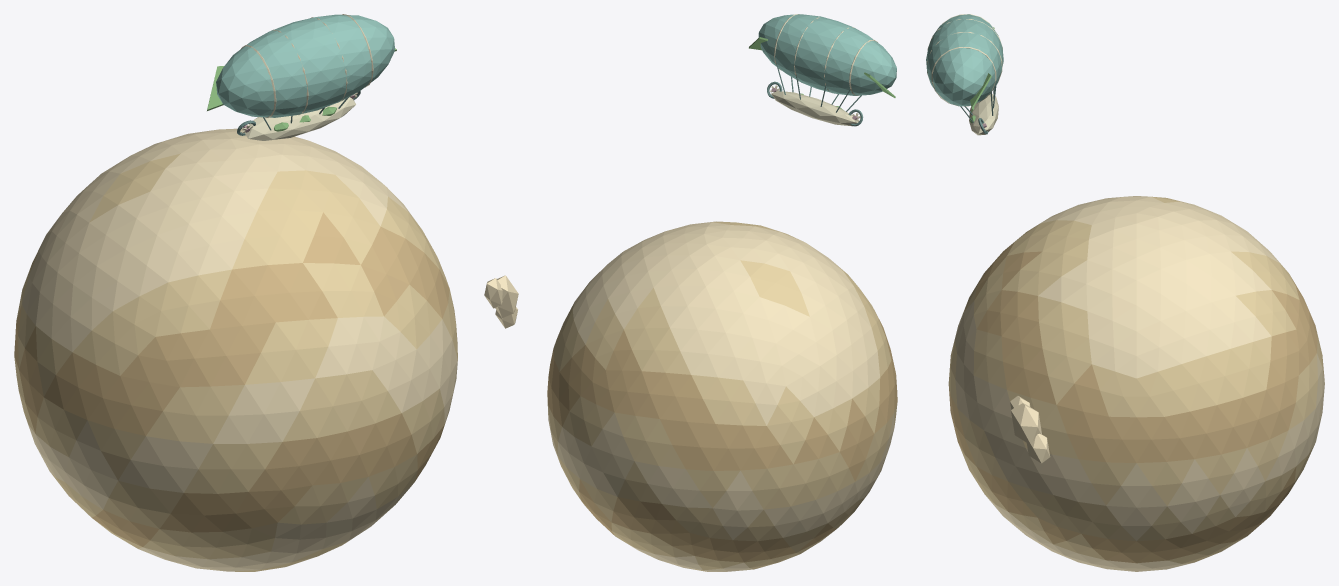
Rendered from Venus.glb.
The picture shows the model from 3 angles, left to right: view 1: azimuth 30°, elevation 25°; view 2: azimuth 150°, elevation 25°; view 3: azimuth 270°, elevation 25°; orthographic projection. The views are drawn at different scales.
Parts seen in each view (by area): view 1: S5_Venus • modeled surfaces; view 2: S5_Venus • modeled surfaces; view 3: S5_Venus • modeled surfaces.
Part boxes in pixels (<box>): S5_Venus • modeled surfaces: <box>14,14,518,571</box>; S5_Venus • modeled surfaces: <box>547,14,897,571</box>; S5_Venus • modeled surfaces: <box>926,14,1324,571</box>.
Size of the model in its own units: 1.77 by 2.48 by 1.74.
